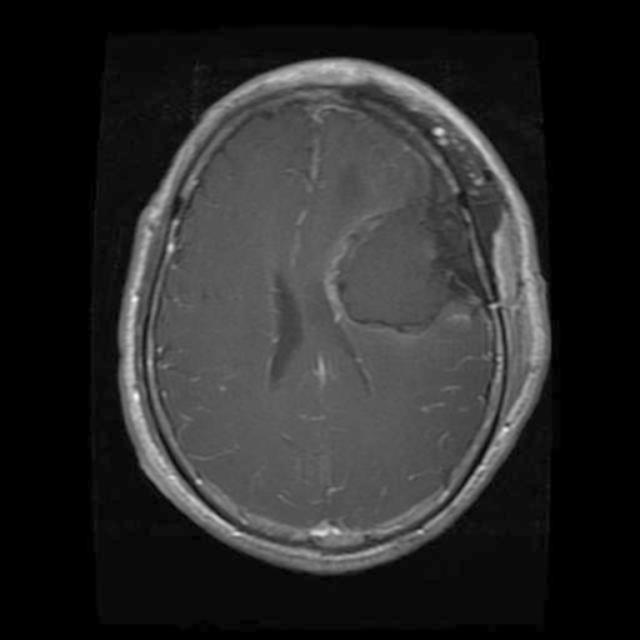pituitary tumor: (320, 208, 462, 338)
